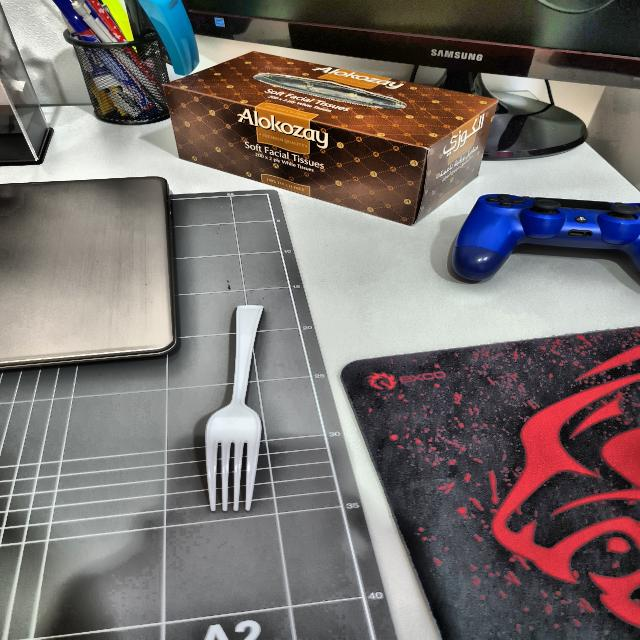plastic utensil: (197, 299, 276, 513)
